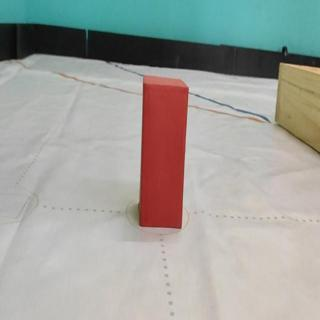redbox: (140, 75, 189, 230)
